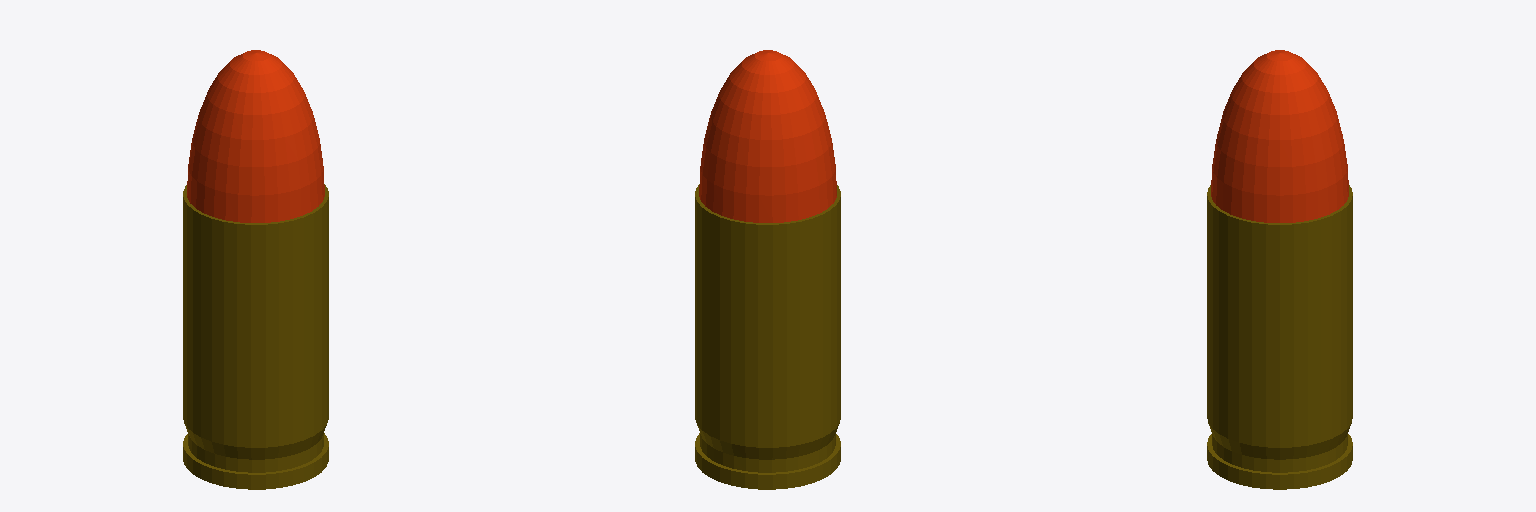
3 views of the same model, side by side, from view 1: azimuth 30°, elevation 25°; view 2: azimuth 150°, elevation 25°; view 3: azimuth 270°, elevation 25° (orthographic).
Parts seen in each view (by area): view 1: sleeve_Цилиндр.002, bullet_Сфера.003; view 2: sleeve_Цилиндр.002, bullet_Сфера.003; view 3: sleeve_Цилиндр.002, bullet_Сфера.003.
Boxes of the visible parts, box(x1,y1,x2,y2) form: sleeve_Цилиндр.002: box(183, 184, 328, 489); bullet_Сфера.003: box(187, 50, 324, 222); sleeve_Цилиндр.002: box(695, 184, 840, 489); bullet_Сфера.003: box(699, 50, 836, 222); sleeve_Цилиндр.002: box(1207, 185, 1352, 489); bullet_Сфера.003: box(1211, 50, 1348, 222).
Bounding box in the file's own units: 0.0095 × 0.0291 × 0.0095.